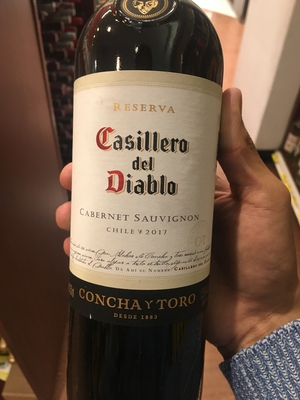casillero del diablo cabernet sauvignon: (54, 8, 222, 400)
